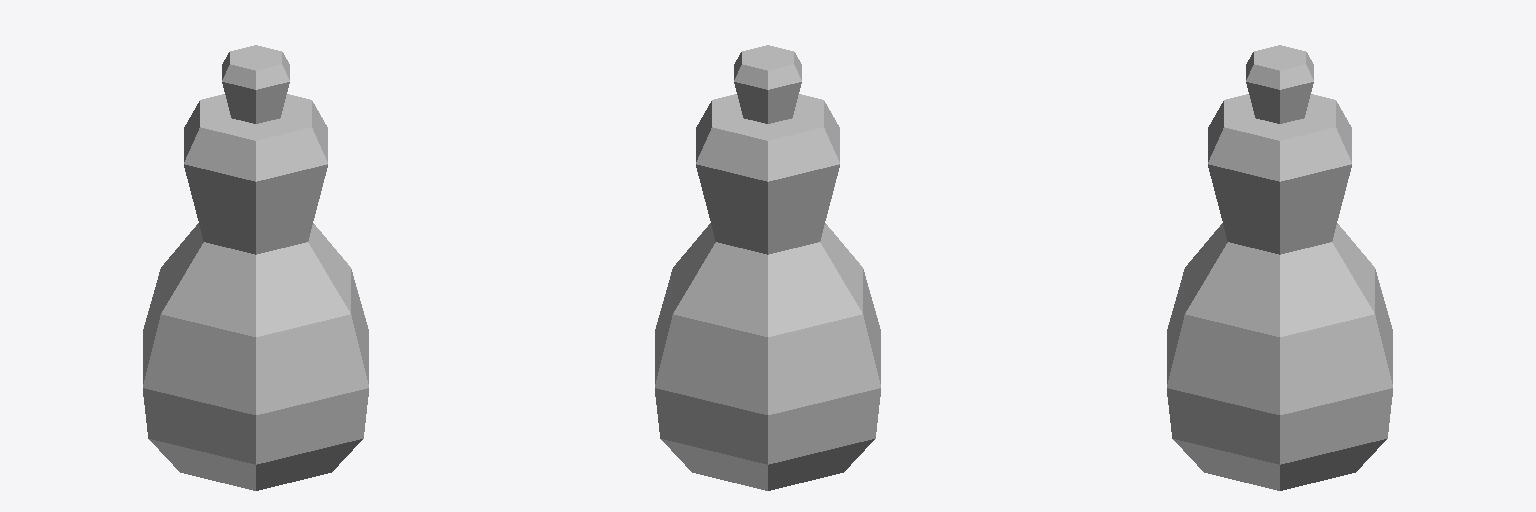
The model's file is Fiole.obj.
3 views of the same model, side by side, from view 1: azimuth 30°, elevation 25°; view 2: azimuth 150°, elevation 25°; view 3: azimuth 270°, elevation 25° (orthographic).
Parts seen in each view (by area): view 1: Fiole; view 2: Fiole; view 3: Fiole.
Boxes of the visible parts, <box> form: Fiole: <box>143,45,368,490</box>; Fiole: <box>655,45,880,490</box>; Fiole: <box>1167,45,1392,490</box>.
Bounding box in the file's own units: 53.64 × 89.48 × 46.45.